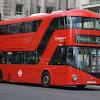bus: (2, 13, 100, 91)
